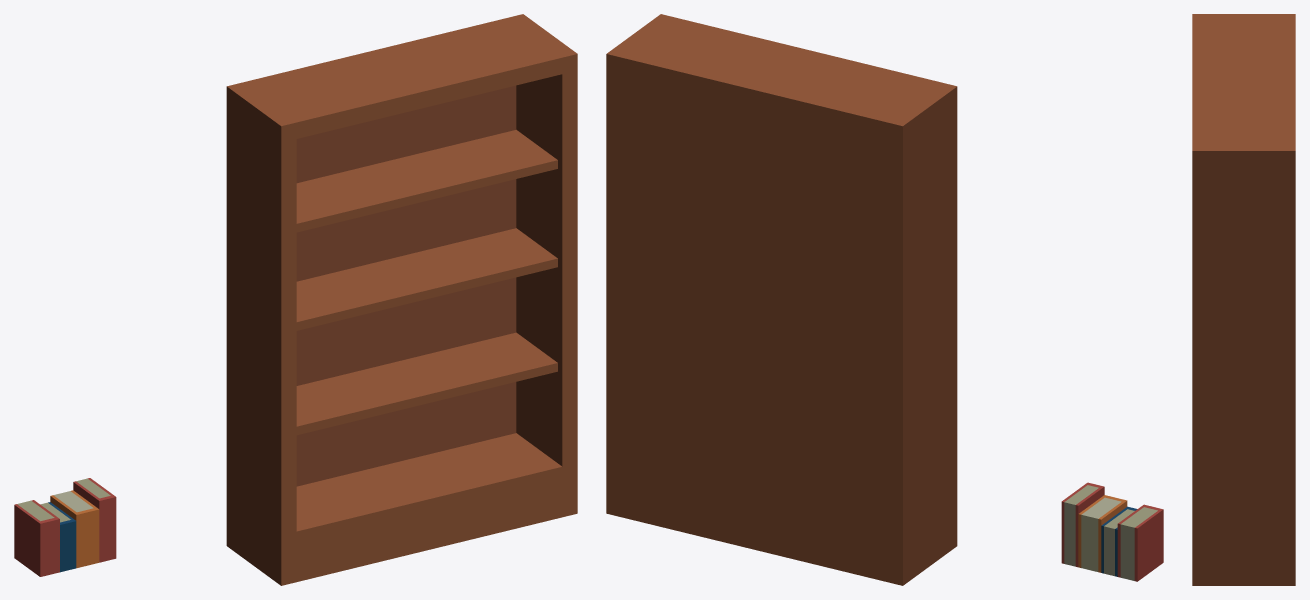
File: shujia_shu.FBX
3 renders of one model, left to right at view 1: azimuth 30°, elevation 25°; view 2: azimuth 150°, elevation 25°; view 3: azimuth 270°, elevation 25°, orthographic. The views are drawn at different scales.
Parts seen in each view (by area): view 1: Prop_Shelf_08, object 2; view 2: Prop_Shelf_08, object 2; view 3: Prop_Shelf_08.
Part boxes in pixels (bbox=[...]): Prop_Shelf_08: bbox=[226, 14, 577, 585]; object 2: bbox=[14, 478, 116, 576]; Prop_Shelf_08: bbox=[606, 14, 957, 585]; object 2: bbox=[1061, 482, 1163, 581]; Prop_Shelf_08: bbox=[1192, 14, 1295, 585].
Size of the model in its own units: 396 by 335 by 72.
1 material, 1 textured.
